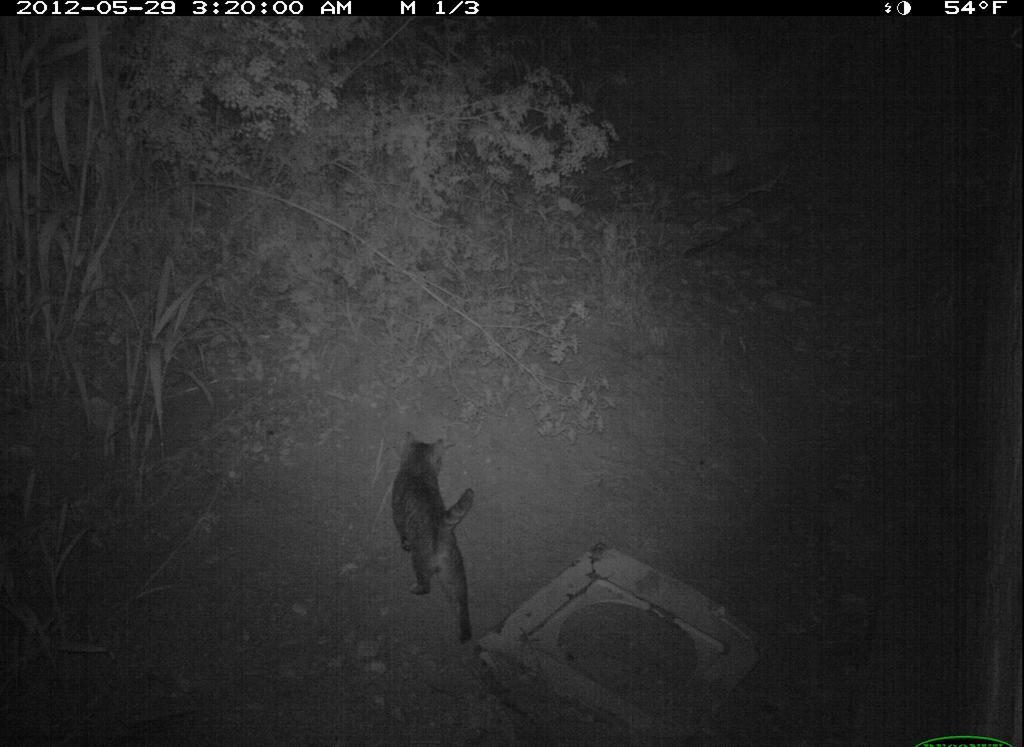cat: (387, 423, 497, 665)
